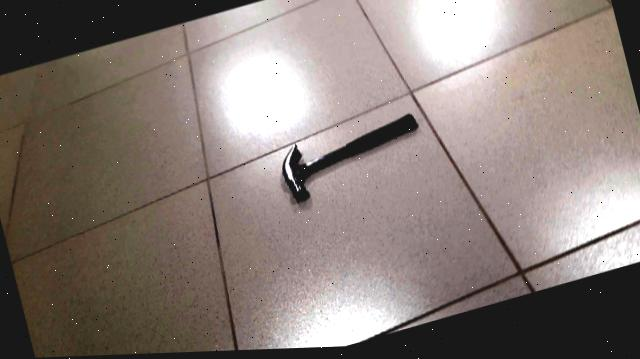hammer: (260, 100, 430, 215)
